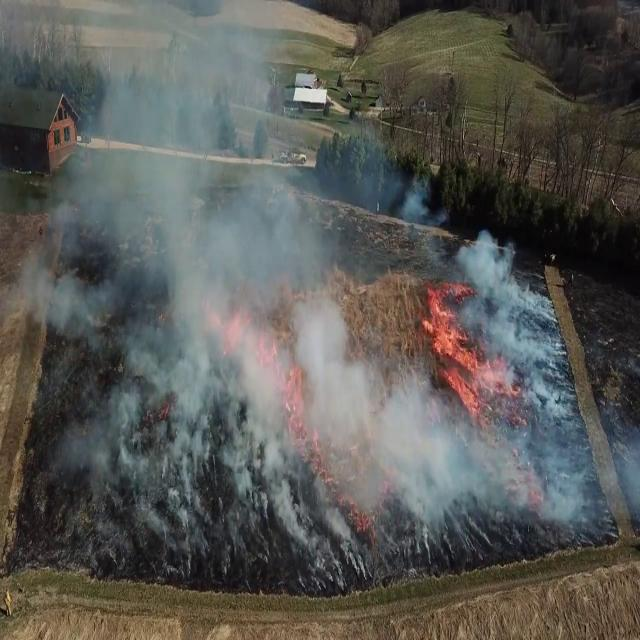Fire: (414, 274, 506, 416)
Smoke: (46, 0, 334, 571), (339, 358, 534, 540), (459, 226, 549, 398)
